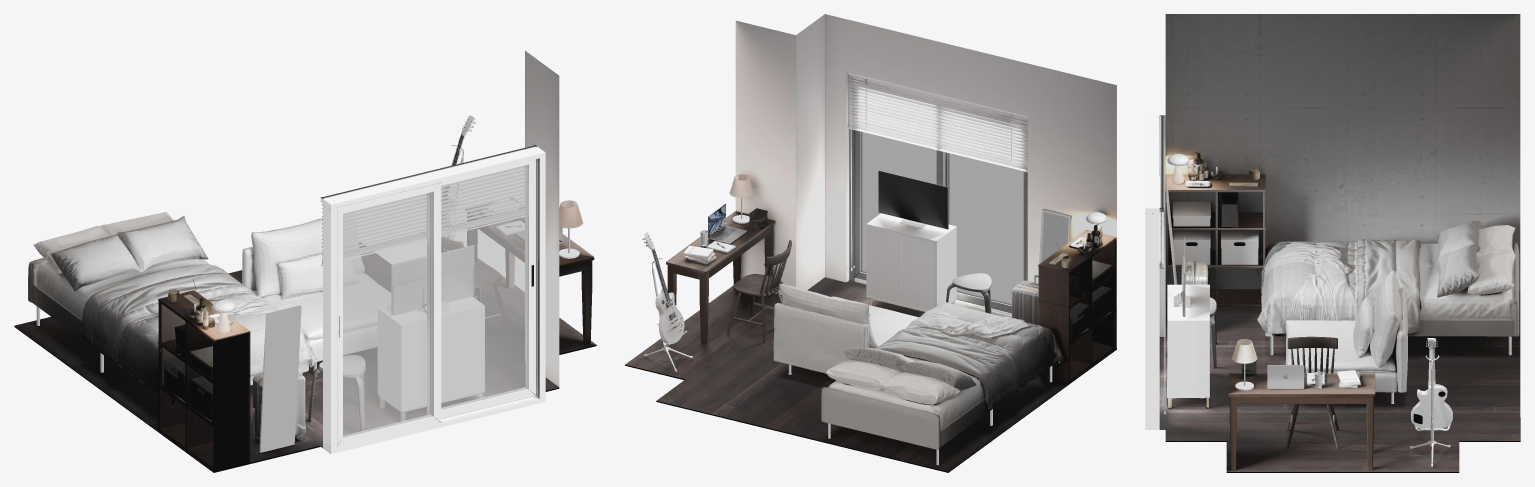
File: compressed_alt1.glb
3 views of the same model, side by side, from view 1: azimuth 30°, elevation 25°; view 2: azimuth 150°, elevation 25°; view 3: azimuth 270°, elevation 25° (orthographic). The views are drawn at different scales.
Parts seen in each view (by area): view 1: room; view 2: room; view 3: room.
Part boxes in pixels (box(x1,y1,x2,y2)): room: box(14, 51, 596, 472); room: box(625, 14, 1116, 472); room: box(1145, 14, 1520, 472).
Bounding box in the file's own units: 3.5 × 2.51 × 3.07.
Materials: 8 (4 with a texture image).
